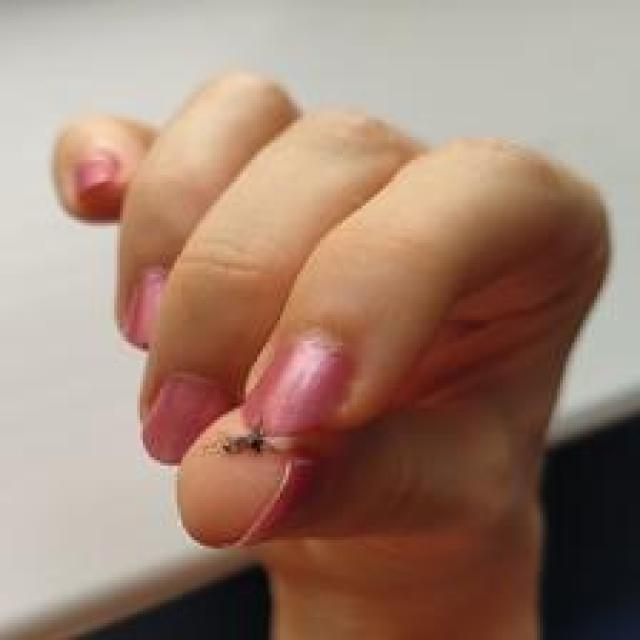Aedes albopictus: (200, 426, 280, 460)
